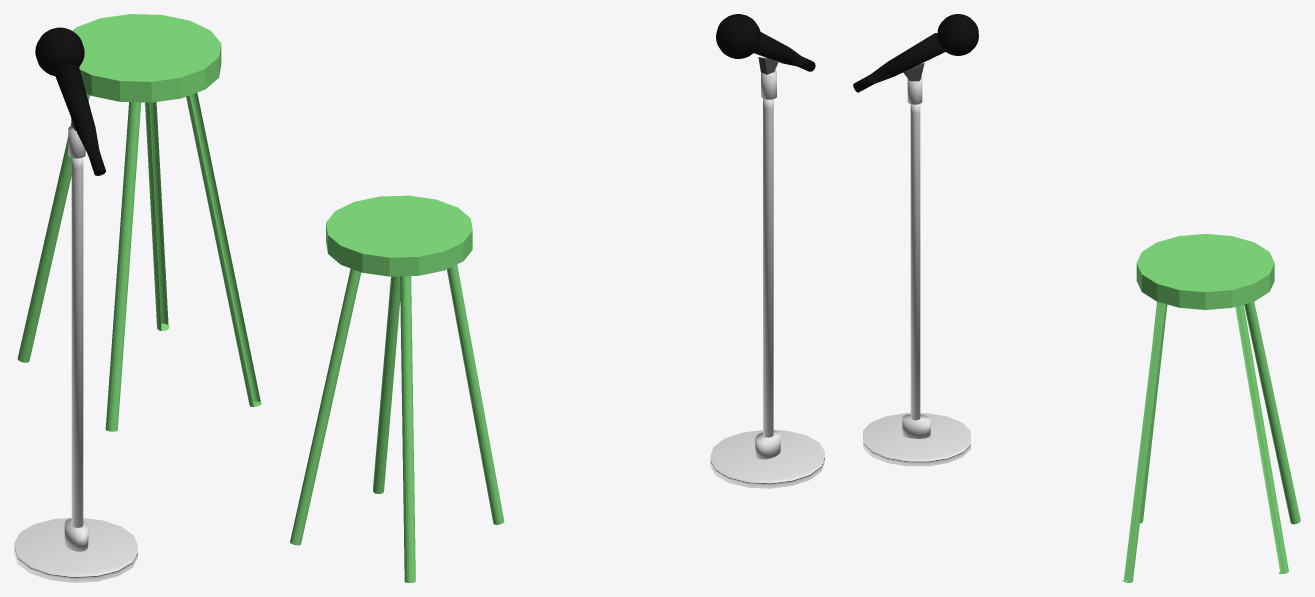
Rendered from testmic.glb.
The picture shows the model from 3 angles, left to right: view 1: azimuth 30°, elevation 25°; view 2: azimuth 150°, elevation 25°; view 3: azimuth 270°, elevation 25°; orthographic projection. The views are drawn at different scales.
Parts seen in each view (by area): view 1: Cylinder.005, Cylinder.004, Cylinder.002, Sphere, Cylinder.003, Cylinder.001; view 2: Cylinder.005, Cylinder.004, Cylinder.002, Sphere; view 3: Cylinder.005, Cylinder.004, Cylinder.002, Sphere, Cylinder.003.
Part boxes in pixels (box(x1,y1,x2,y2)): Cylinder.005: box(17, 14, 261, 431); Cylinder.004: box(14, 518, 137, 582); Cylinder.002: box(71, 157, 83, 527); Sphere: box(35, 27, 105, 175); Cylinder.003: box(64, 518, 88, 551); Cylinder.001: box(68, 126, 85, 158); Cylinder.005: box(290, 195, 504, 582); Cylinder.004: box(710, 430, 824, 488); Cylinder.002: box(763, 98, 773, 437); Sphere: box(716, 14, 815, 71); Cylinder.005: box(1122, 234, 1300, 582); Cylinder.004: box(863, 413, 970, 466); Cylinder.002: box(910, 104, 920, 420); Sphere: box(853, 14, 978, 92); Cylinder.003: box(902, 414, 930, 438).
Size of the model in its own units: 2.65 by 3.65 by 3.34.
